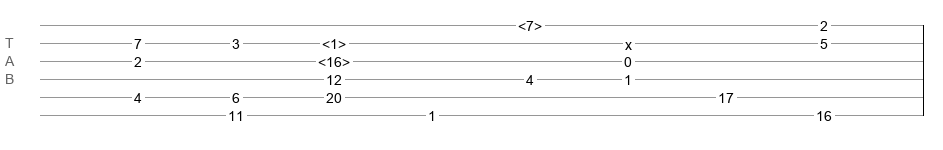0: (624, 54, 632, 64)
1: (428, 108, 436, 118), (624, 72, 632, 82)
11: (228, 108, 244, 118)
12: (326, 72, 342, 82)
16: (816, 108, 832, 118)
17: (718, 90, 734, 100)
2: (134, 54, 142, 64), (820, 18, 828, 28)
20: (326, 90, 342, 100)
3: (232, 36, 240, 46)
4: (134, 90, 142, 100), (526, 72, 534, 82)
5: (820, 36, 828, 46)
6: (232, 90, 240, 100)
7: (134, 36, 142, 46)
harmonic: (318, 54, 350, 64), (322, 36, 346, 46), (518, 18, 542, 28)
x: (625, 37, 632, 45)
